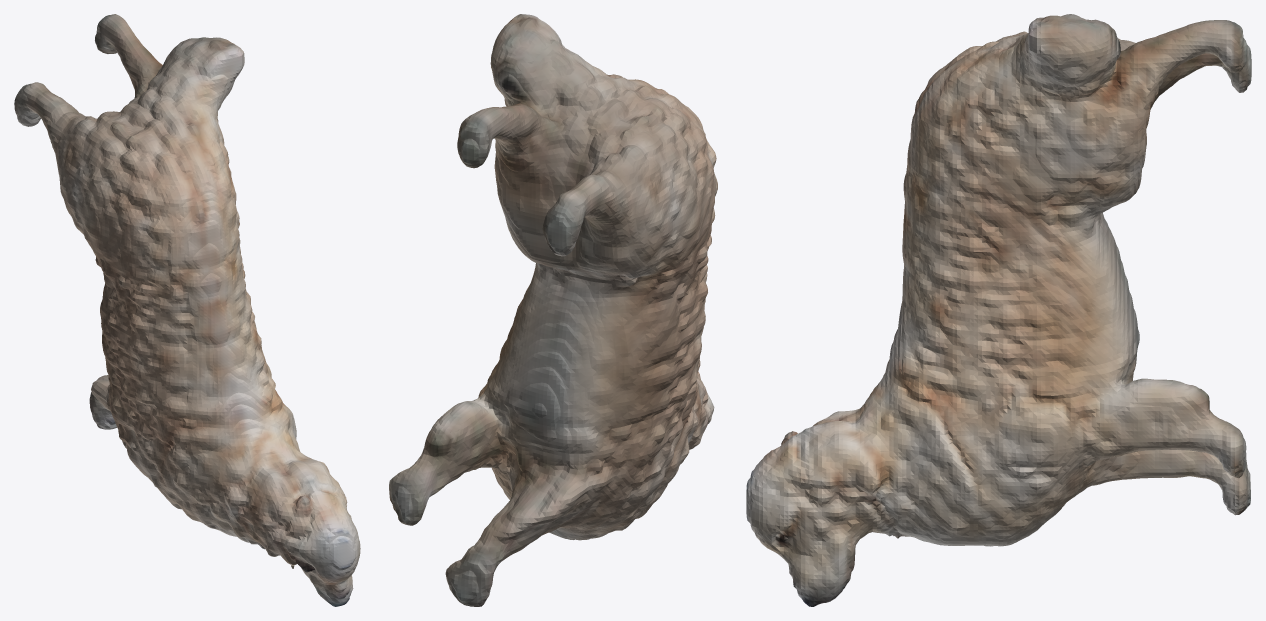
3 renders of one model, left to right at view 1: azimuth 30°, elevation 25°; view 2: azimuth 150°, elevation 25°; view 3: azimuth 270°, elevation 25°, orthographic. The views are drawn at different scales.
Parts seen in each view (by area): view 1: world; view 2: world; view 3: world.
Part boxes in pixels (left/top/right/bottom): world: left=14, top=14, right=360, bottom=606; world: left=389, top=14, right=717, bottom=606; world: left=746, top=14, right=1251, bottom=606.
Size of the model in its own units: 0.3891 by 1.03 by 0.8185.
